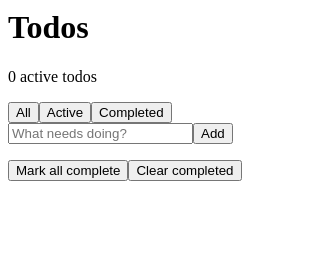
it: TodoApp completed-status message › hides the message when the completed todo is deleted
In the field named "New todo": point(100, 133) [8, 123, 193, 144], type "Buy milk"
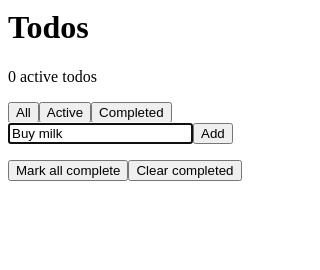
Click the button "Add": point(213, 133) [193, 123, 233, 144]
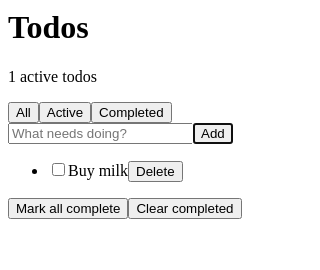
Click the checkbox: point(58, 169) [52, 163, 65, 176]
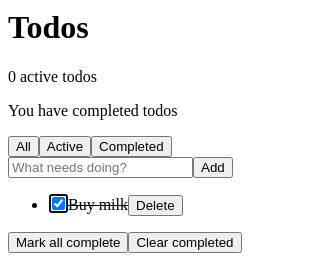
Check: the text "You have completed todos" is shown, box [8, 102, 178, 119]
Click the button with aria-label "Delete Buy milk": point(155, 205) [128, 195, 182, 216]
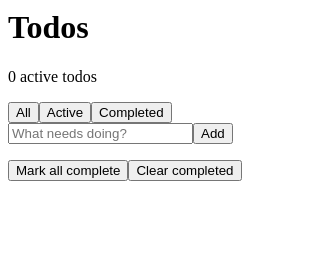
Check: the text "You have completed todos" is gone
